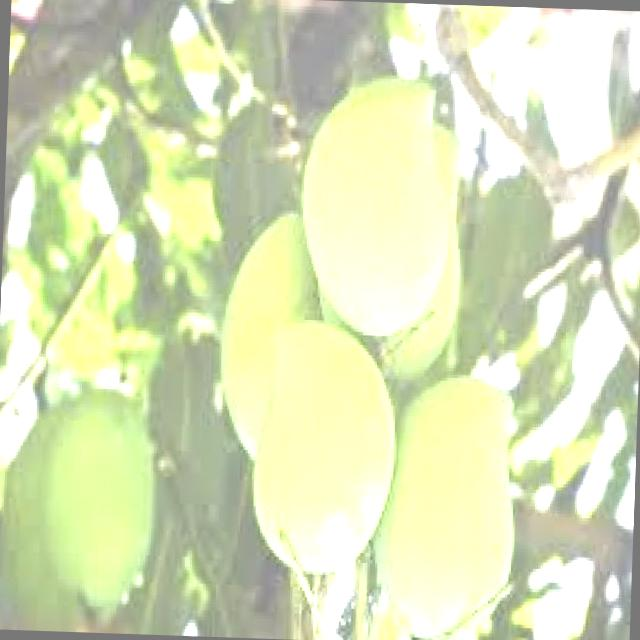Mango: (293, 72, 455, 340), (369, 369, 523, 640), (248, 324, 398, 574), (210, 210, 330, 463), (38, 398, 166, 624)
